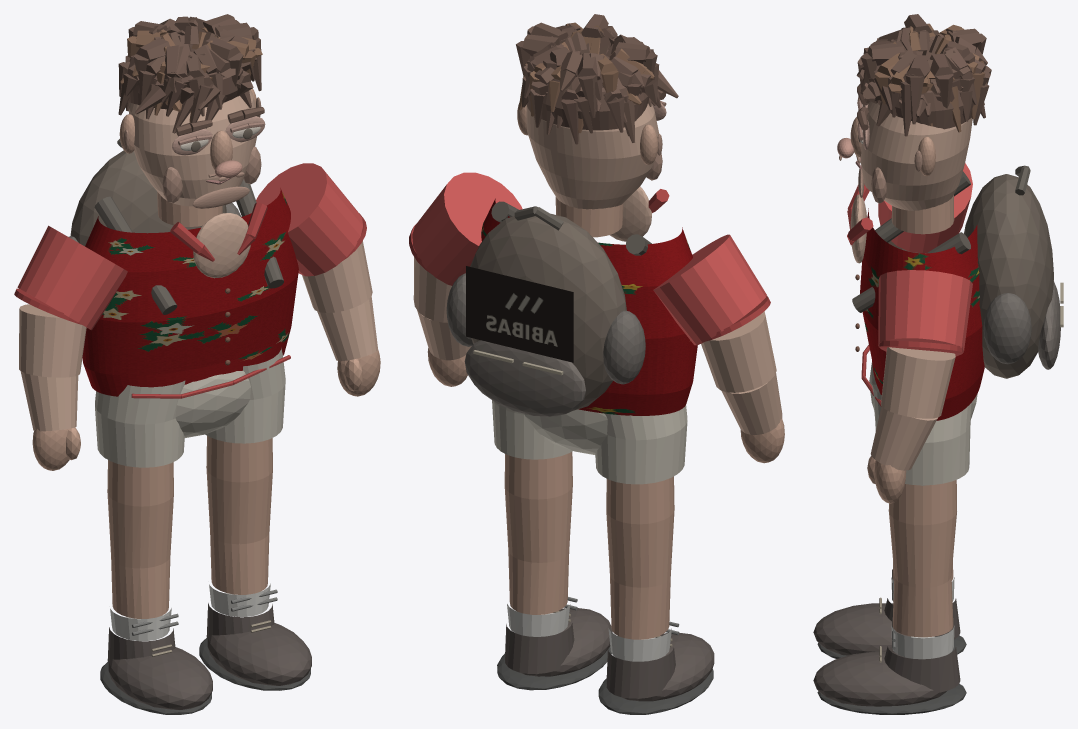
Rendered from alkosmen_3d_prototype.glb.
3 views of the same model, side by side, from view 1: azimuth 30°, elevation 25°; view 2: azimuth 150°, elevation 25°; view 3: azimuth 270°, elevation 25° (orthographic). The views are drawn at different scales.
Visible parts, largest first — view 1: Hawaiian_shirt_torso27, calf_L0, calf_R13, sleeve46, sleeve40, shorts_L1, head_sculpt53, ABIBAS_backpack_body264, boot_toe20, boot_toe7, upper_arm42, shorts_R14 (+20 smaller); view 2: ABIBAS_backpack_body264, Hawaiian_shirt_torso27, calf_L0, calf_R13, head_sculpt53, ABIBAS_mark_back274, sleeve40, sleeve46, backpack_front_pocket265, shorts_L1, upper_arm42, boot_upper6 (+20 smaller); view 3: ABIBAS_backpack_body264, calf_R13, Hawaiian_shirt_torso27, head_sculpt53, sleeve46, boot_toe20, upper_arm48, shorts_R14, boot_toe7, side_pocket270, forearm49, boot_upper19 (+18 smaller).
Boxes of the visible parts, x1,y1,x2,y2 form: Hawaiian_shirt_torso27: [82, 188, 298, 396]; calf_L0: [107, 460, 173, 618]; calf_R13: [206, 436, 272, 594]; sleeve46: [256, 163, 362, 276]; sleeve40: [17, 225, 127, 330]; shorts_L1: [95, 380, 185, 467]; head_sculpt53: [128, 89, 256, 206]; ABIBAS_backpack_body264: [70, 150, 226, 246]; boot_toe20: [207, 623, 311, 685]; boot_toe7: [108, 647, 212, 710]; upper_arm42: [19, 304, 86, 377]; shorts_R14: [205, 348, 285, 443]; ABIBAS_backpack_body264: [470, 214, 626, 410]; Hawaiian_shirt_torso27: [481, 198, 697, 415]; calf_L0: [606, 476, 674, 639]; calf_R13: [504, 452, 572, 614]; head_sculpt53: [526, 103, 659, 209]; ABIBAS_mark_back274: [466, 266, 573, 362]; sleeve40: [653, 234, 766, 345]; sleeve46: [412, 172, 522, 285]; backpack_front_pocket265: [464, 340, 585, 416]; shorts_L1: [595, 405, 687, 484]; upper_arm42: [701, 311, 776, 392]; boot_upper6: [606, 647, 675, 698]; ABIBAS_backpack_body264: [964, 174, 1053, 378]; calf_R13: [888, 480, 956, 637]; Hawaiian_shirt_torso27: [860, 208, 984, 420]; head_sculpt53: [860, 101, 972, 210]; sleeve46: [878, 270, 972, 356]; boot_toe20: [813, 651, 946, 706]; upper_arm48: [881, 347, 955, 418]; shorts_R14: [872, 383, 972, 485]; boot_toe7: [813, 603, 911, 655]; side_pocket270: [983, 293, 1031, 364]; forearm49: [870, 406, 937, 470]; boot_upper19: [884, 646, 960, 693].
Size of the model in its own units: 1.07 by 1.9 by 0.6735.
2 materials, 2 textured.
